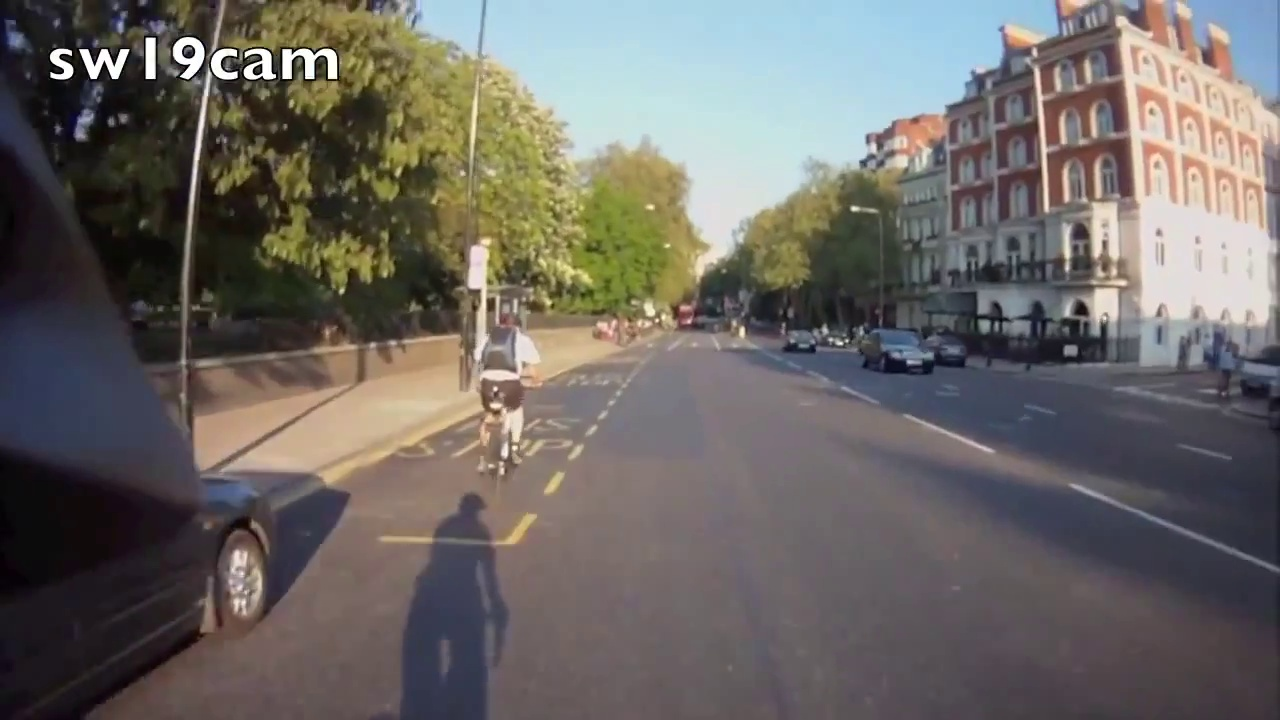cyclist_back: (476, 302, 537, 484)
